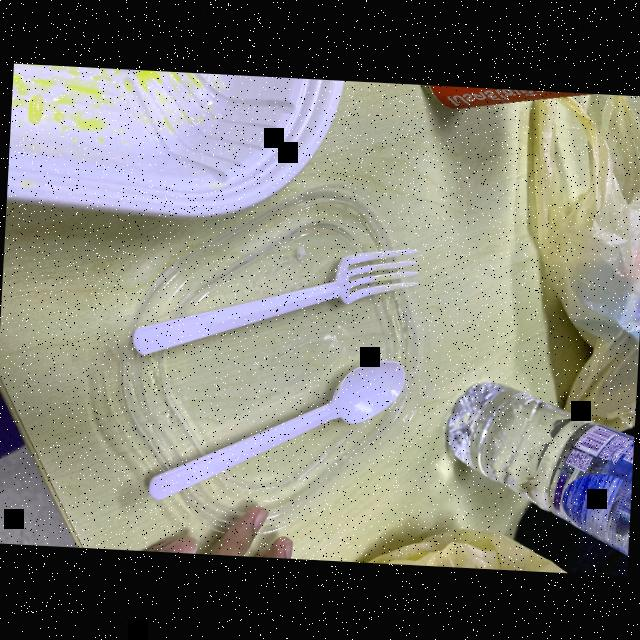plastic_spoon: (116, 218, 430, 384), (140, 344, 408, 516)
